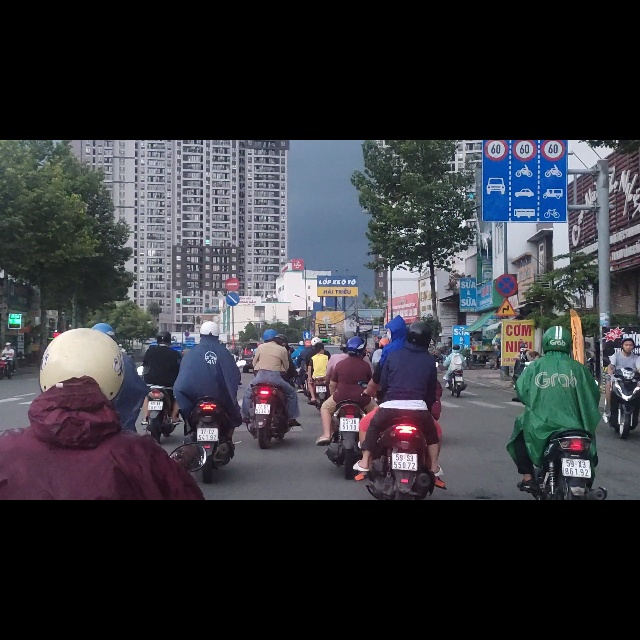bien_chi_dan: (483, 39, 567, 146), (540, 1, 566, 38), (496, 238, 518, 278), (513, 1, 537, 37), (485, 1, 508, 36), (496, 280, 517, 312), (226, 244, 240, 269), (226, 270, 240, 295), (372, 328, 380, 347), (303, 338, 312, 354)
